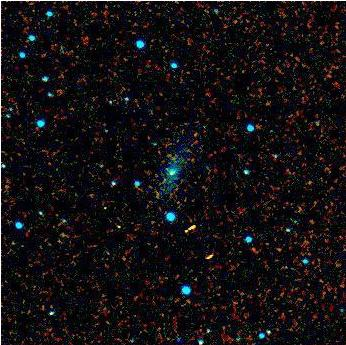star: (105, 212, 135, 242)
